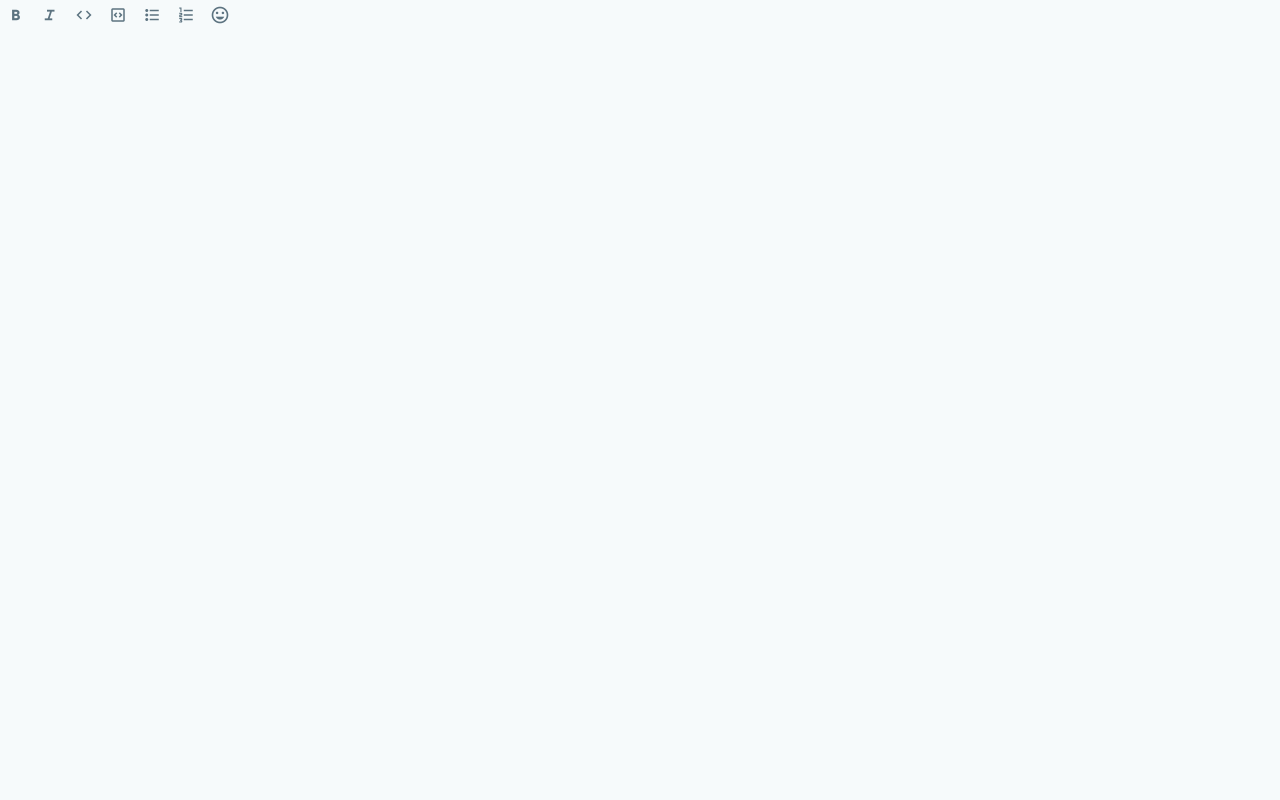
Test: ComposerToolbar — emoji insertion › opens the full picker, not a fixed list
Click the button with test id "toolbar-emoji-btn": (220, 15) [204, 0, 236, 30]
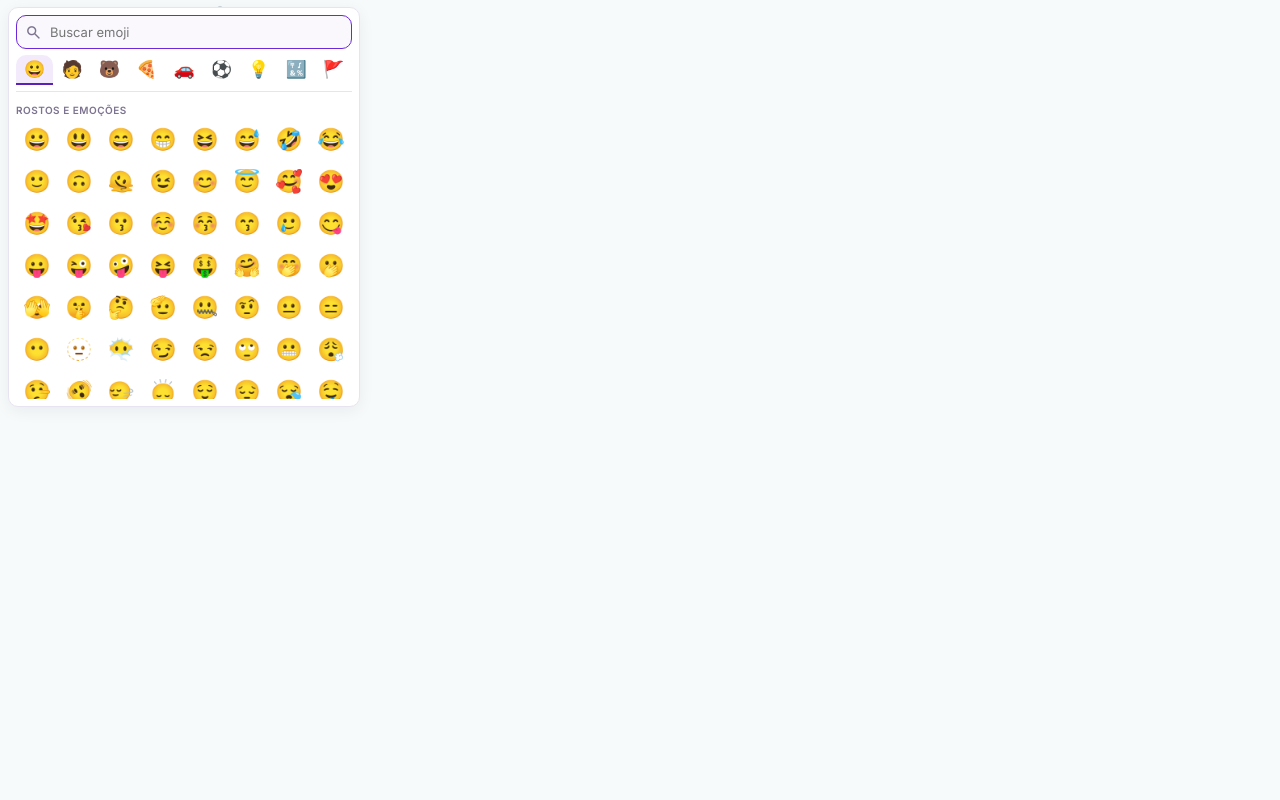
Check: the search field labelled "Buscar emoji" is shown, box [48, 16, 343, 48]
Check: the element named "Categorias de emoji" is shown, box [16, 55, 352, 92]
